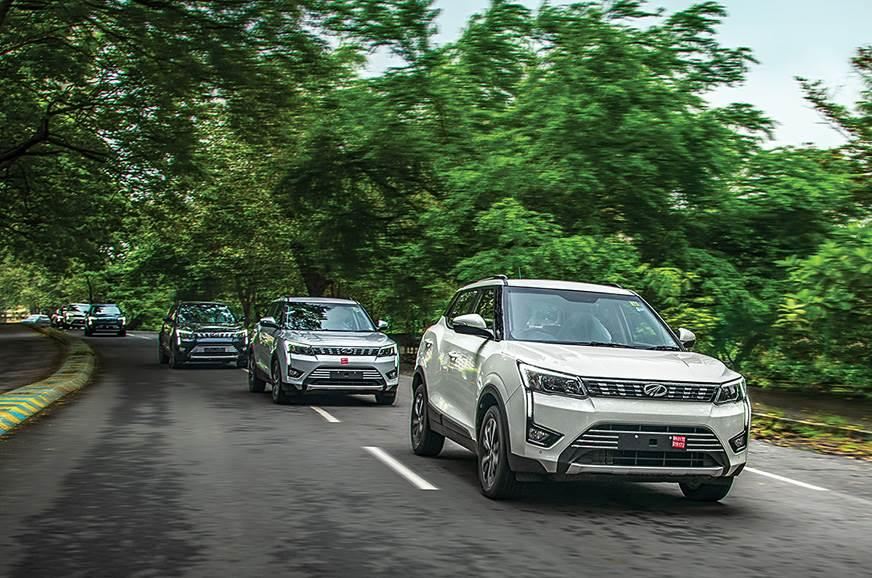car: (409, 274, 765, 509), (249, 286, 406, 411), (157, 290, 248, 376), (83, 284, 138, 348)
